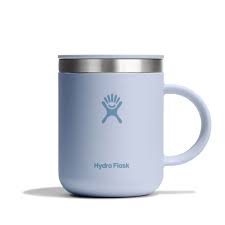mug: (51, 46, 215, 207)
